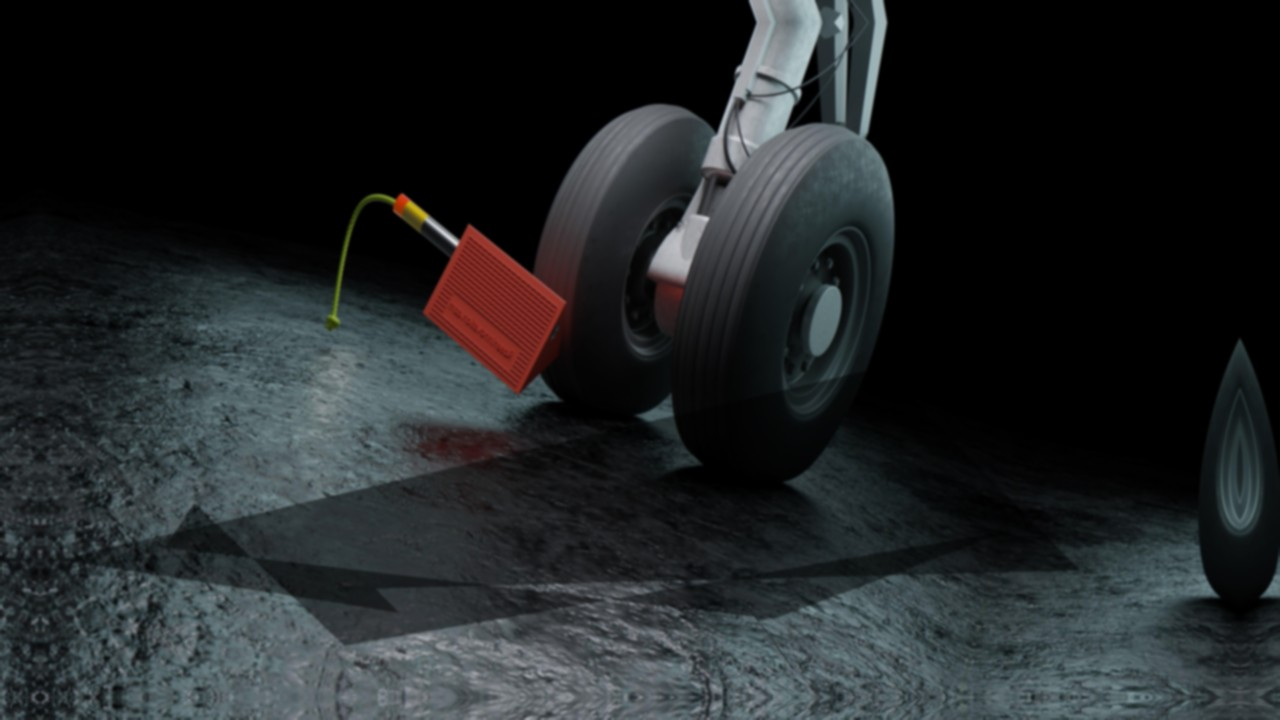chock: (406, 214, 590, 406)
wheel: (640, 95, 931, 509), (501, 76, 751, 435)
